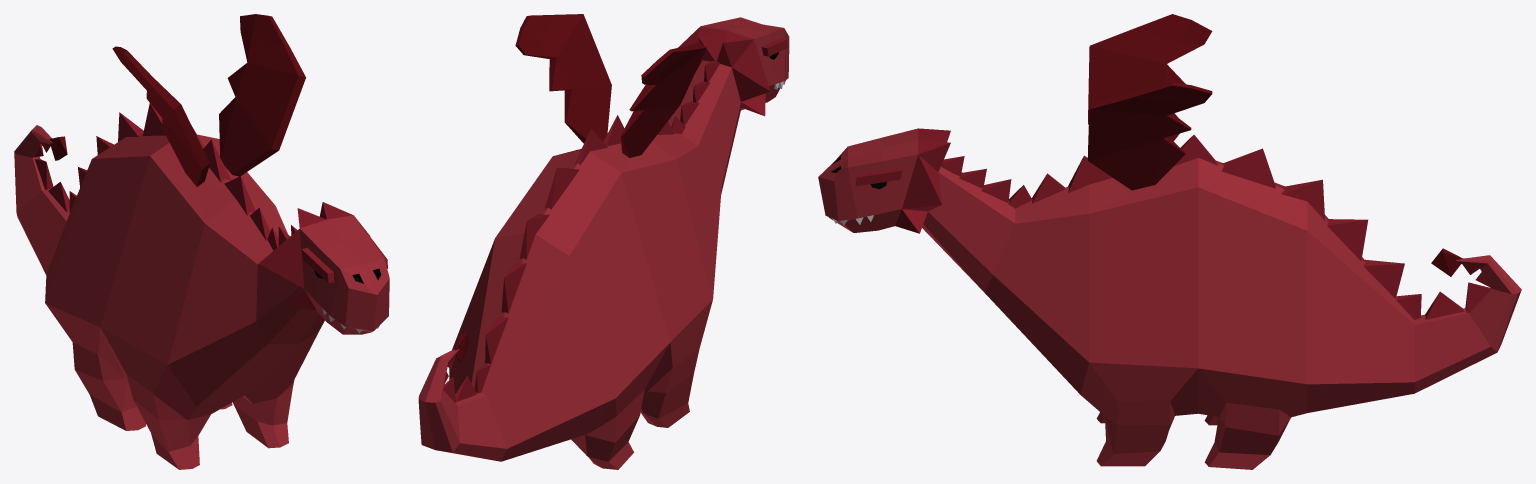
Rendered from Dragon_01.fbx.
The picture shows the model from 3 angles, left to right: view 1: azimuth 30°, elevation 25°; view 2: azimuth 150°, elevation 25°; view 3: azimuth 270°, elevation 25°; orthographic projection.
Visible parts, largest first — view 1: Dragon_01; view 2: Dragon_01; view 3: Dragon_01.
Part boxes in pixels (x1,y1,x2,y2): Dragon_01: [14, 14, 389, 469]; Dragon_01: [418, 14, 789, 469]; Dragon_01: [818, 14, 1521, 469].
Size of the model in its own units: 6.07 by 13.7 by 22.23.
